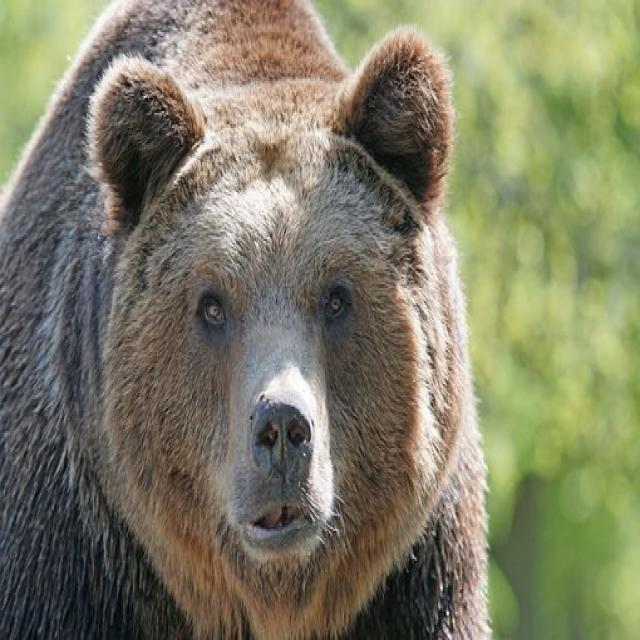Bear: (0, 0, 494, 640)
